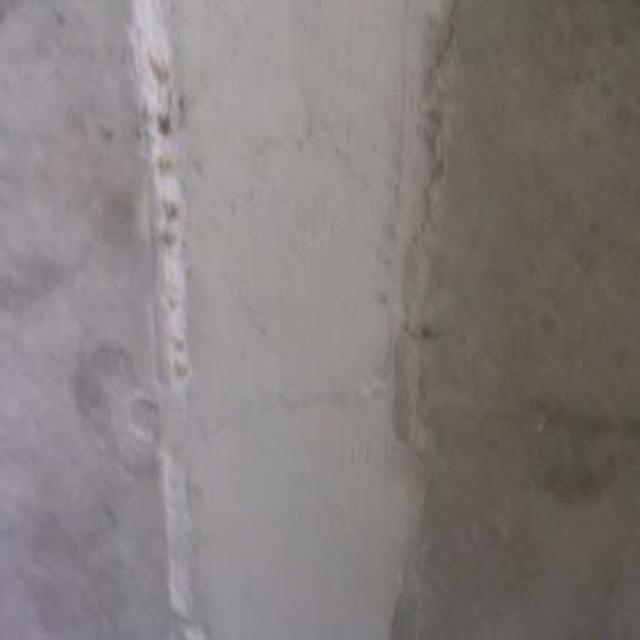freelime: (133, 6, 197, 410)
